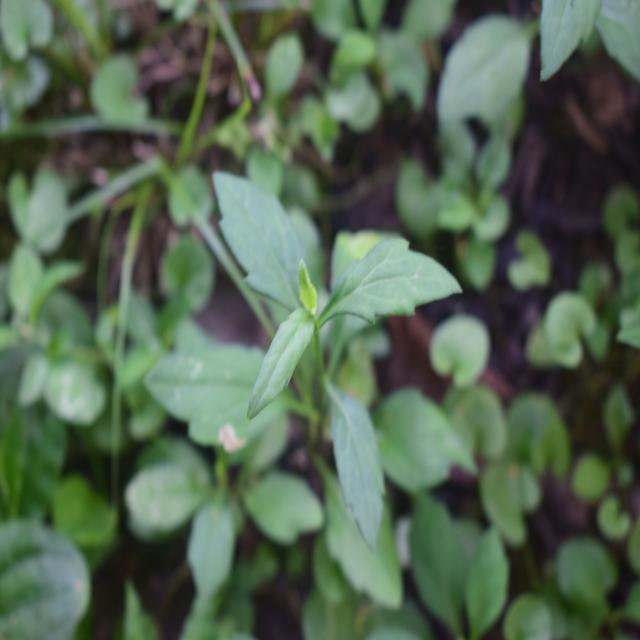Indian aster: (202, 162, 432, 540)
